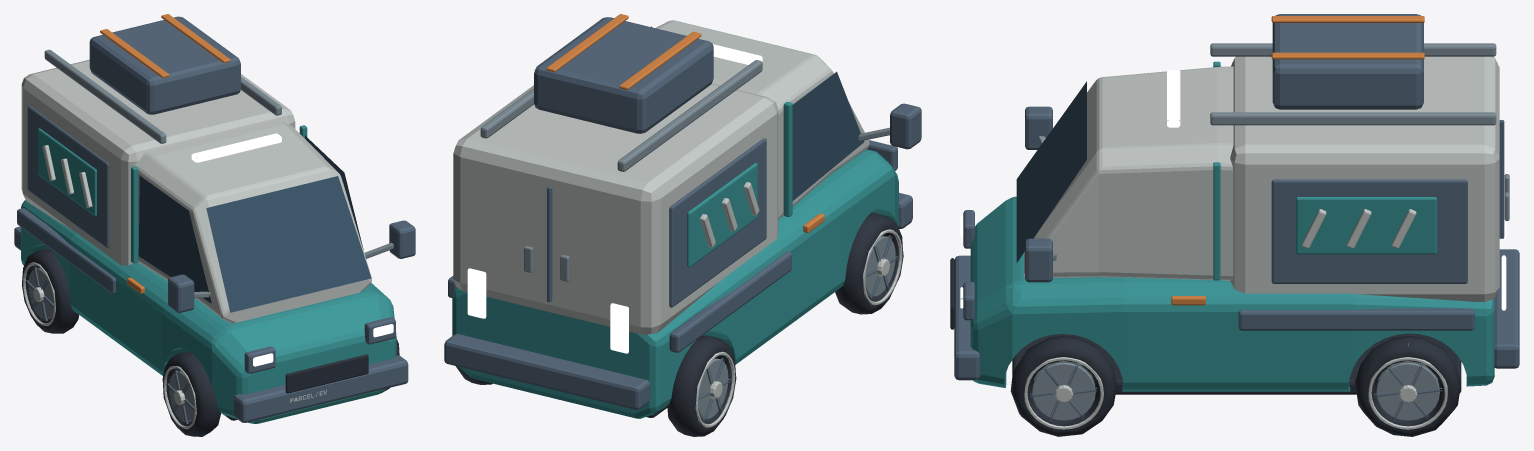
File: van.glb
The picture shows the model from 3 angles, left to right: view 1: azimuth 30°, elevation 25°; view 2: azimuth 150°, elevation 25°; view 3: azimuth 270°, elevation 25°; orthographic projection. The views are drawn at different scales.
Parts seen in each view (by area): view 1: Body, Wheel_FL, Wheel_RL, Signal; view 2: Body, Wheel_RL, Wheel_FL, Signal; view 3: Body, Wheel_RR, Wheel_FR, Signal.
Boxes of the visible parts, left/top/right/bottom form: Body: left=14, top=14, right=415, bottom=423; Wheel_FL: left=162, top=352, right=221, bottom=436; Wheel_RL: left=22, top=249, right=79, bottom=333; Signal: left=191, top=133, right=393, bottom=366; Body: left=444, top=14, right=921, bottom=418; Wheel_RL: left=667, top=336, right=736, bottom=436; Wheel_FL: left=835, top=213, right=903, bottom=314; Signal: left=467, top=44, right=762, bottom=353; Body: left=950, top=14, right=1519, bottom=394; Wheel_RR: left=1355, top=336, right=1461, bottom=436; Wheel_FR: left=1010, top=336, right=1116, bottom=436; Signal: left=960, top=70, right=1506, bottom=310.
Bounding box in the file's own units: 2.03 × 2.29 × 3.42.
